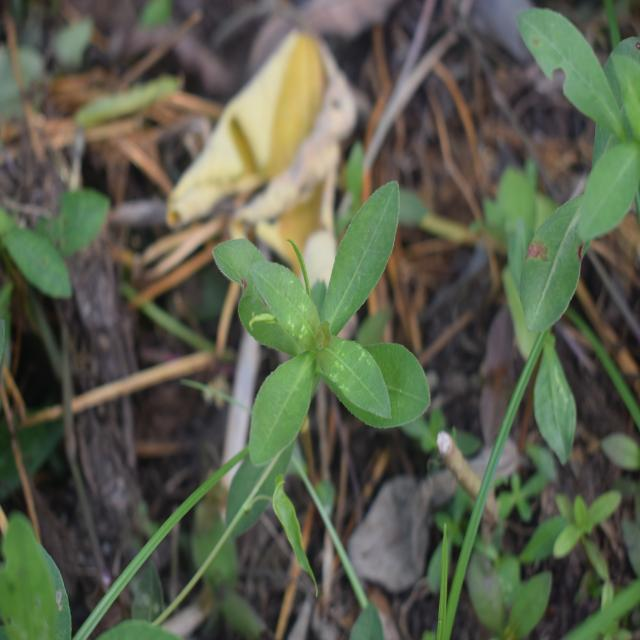Alligatorweed: (228, 164, 425, 501)
